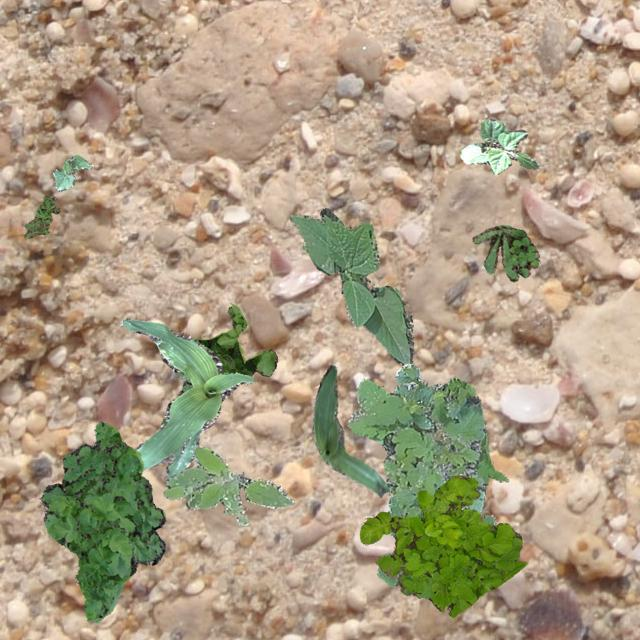crop: (119, 318, 254, 478), (288, 208, 412, 364), (312, 364, 388, 496), (458, 118, 538, 174), (52, 154, 92, 190)
weed: (376, 362, 506, 586), (39, 420, 164, 622), (358, 474, 526, 616), (346, 378, 484, 520), (162, 444, 294, 526), (192, 304, 276, 376), (472, 223, 538, 280), (23, 195, 58, 238)
